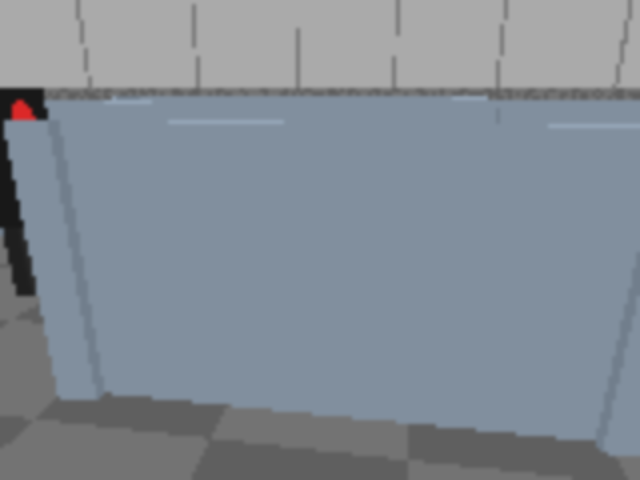traffic_light: (0, 75, 77, 309)
